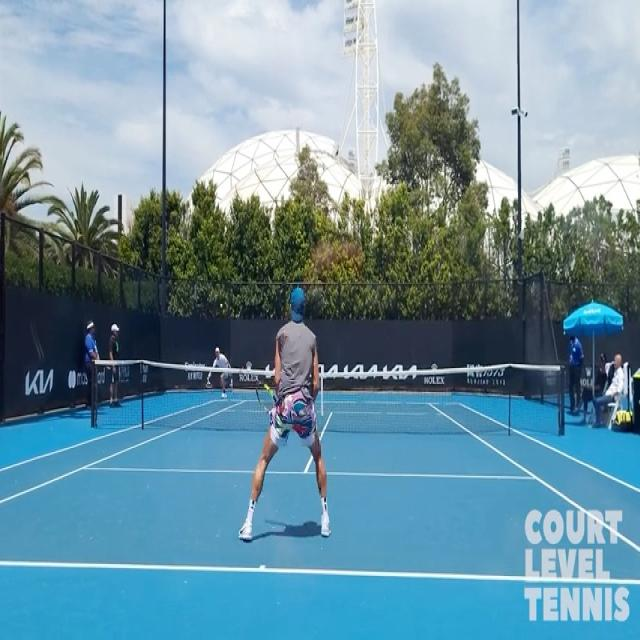ready-position: (229, 249, 358, 572)
